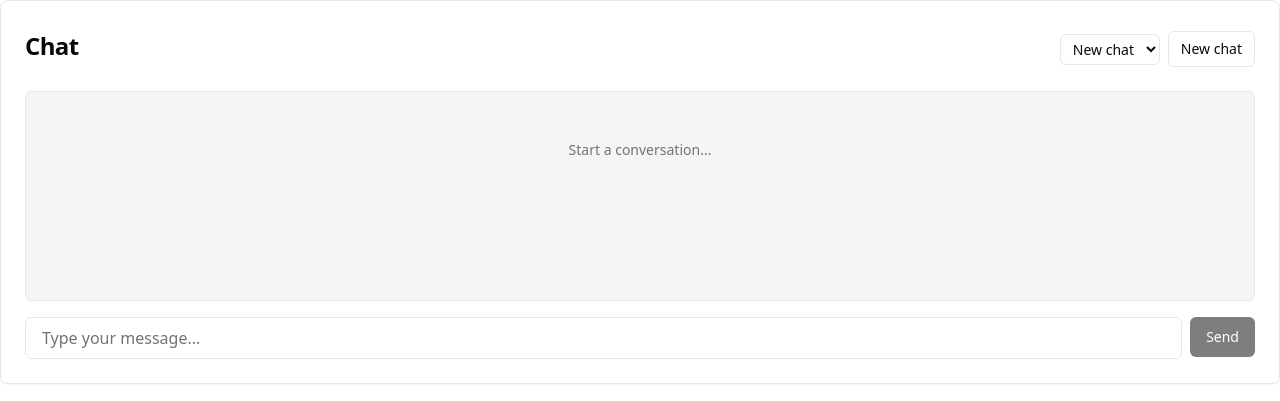
it: ChatWindow › should display sent message in UI
Type "Hello agent" into the field with placeholder "Type your message...".
click(604, 338); type("Hello agent")  # box [25, 317, 1182, 359]
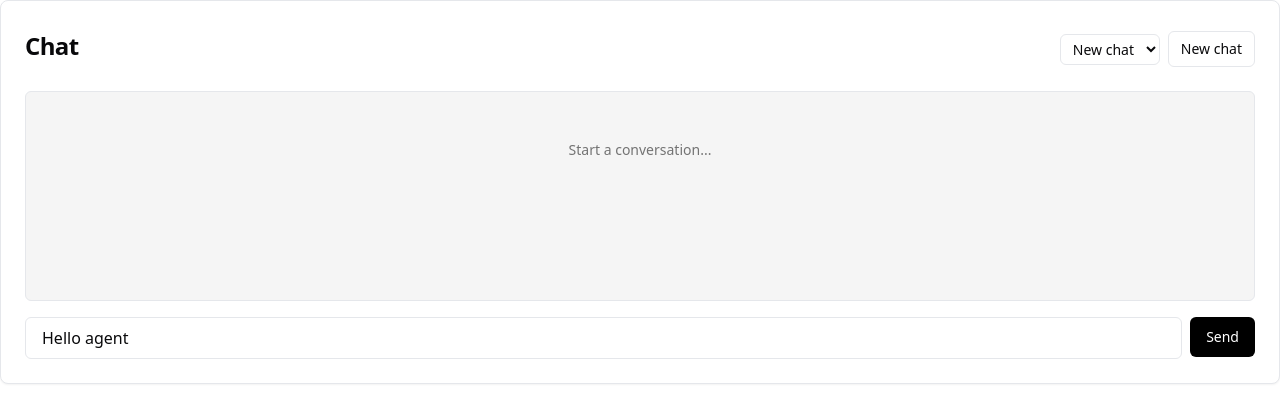
Click the button "Send".
click(1223, 337)  # box [1190, 317, 1255, 357]
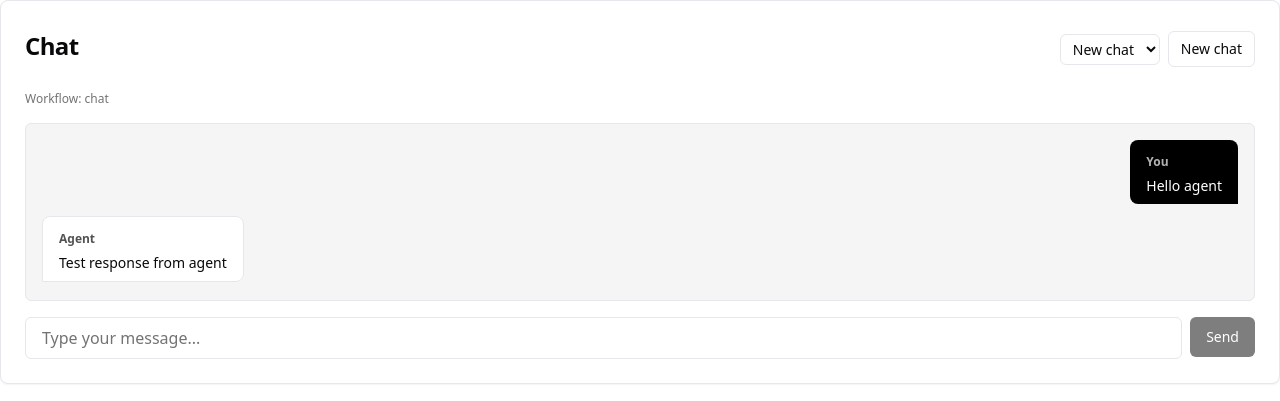
Check: the text "Hello agent" is shown, box [1146, 176, 1222, 196]
